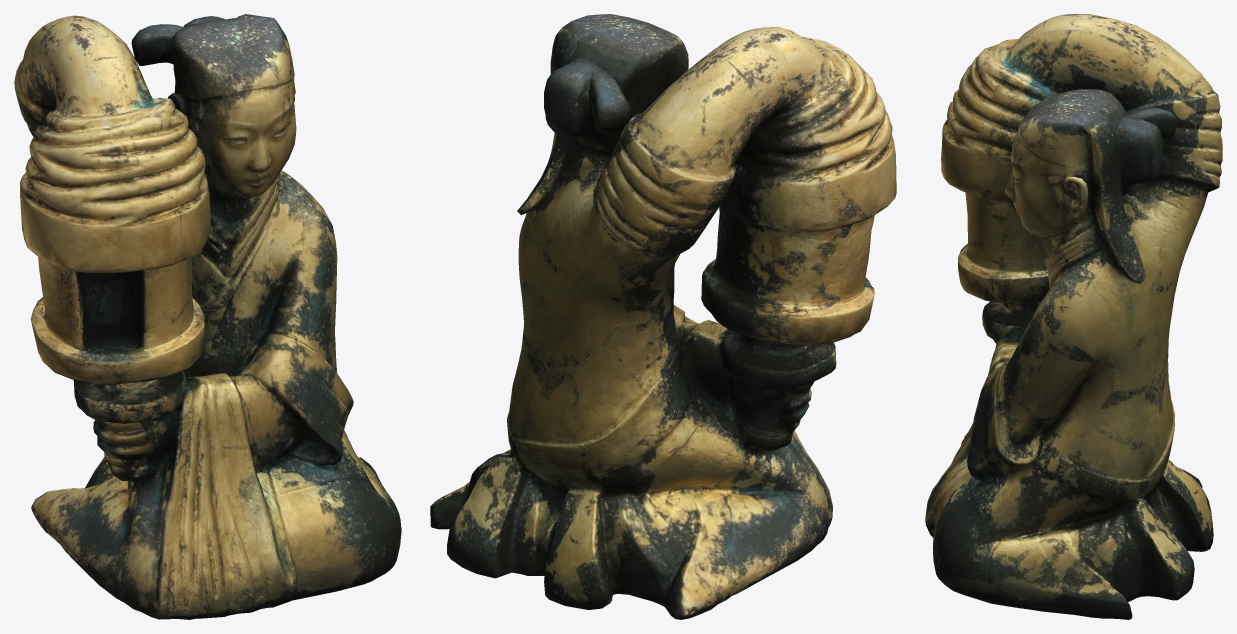
File: lamp.glb
The picture shows the model from 3 angles, left to right: view 1: azimuth 30°, elevation 25°; view 2: azimuth 150°, elevation 25°; view 3: azimuth 270°, elevation 25°; orthographic projection. The views are drawn at different scales.
Parts seen in each view (by area): view 1: gongdeng_deng_0; view 2: gongdeng_deng_0; view 3: gongdeng_deng_0.
Boxes of the visible parts, box(x1,y1,x2,y2) form: gongdeng_deng_0: box(14, 14, 401, 619); gongdeng_deng_0: box(430, 14, 896, 619); gongdeng_deng_0: box(925, 14, 1222, 619).
Bounding box in the file's own units: 9.13 × 12.13 × 6.87.
1 material, 1 textured.
